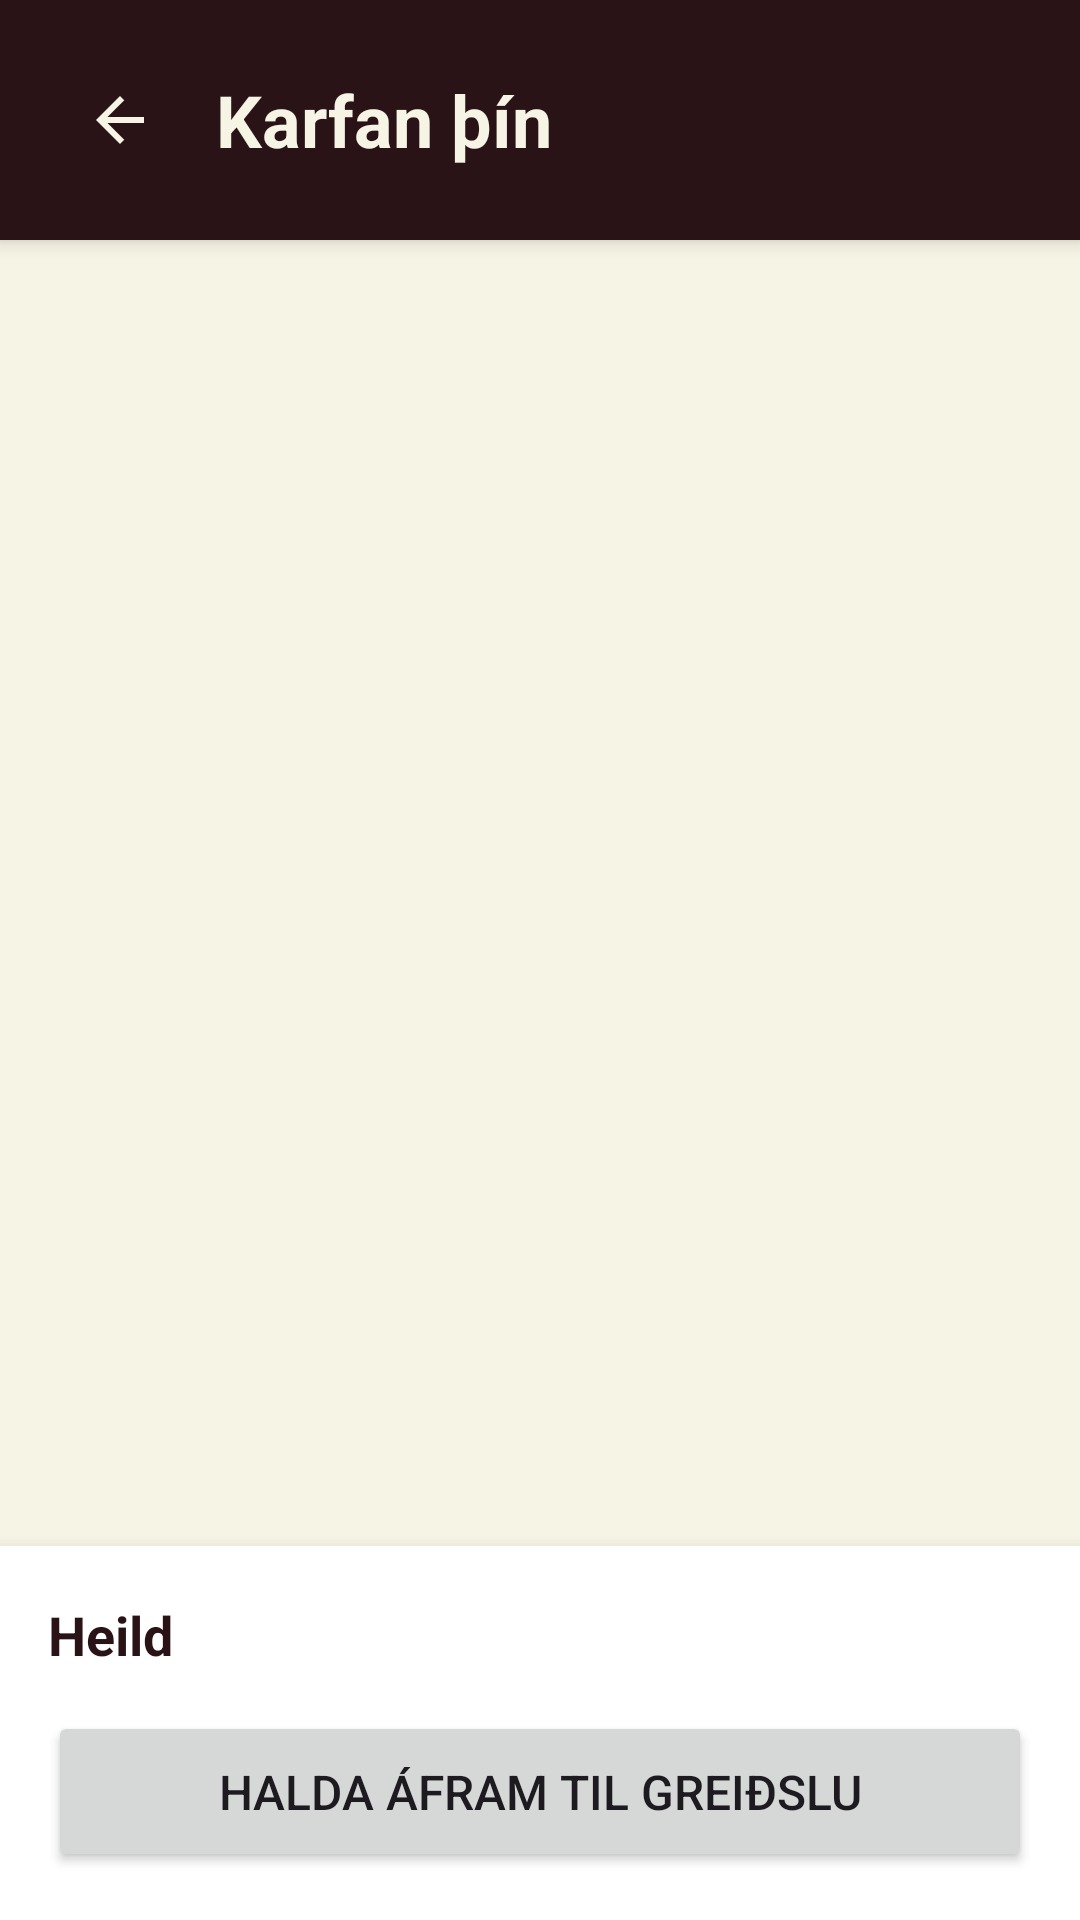

Locate icon controls on the screen. Image size 1080px×1920px, boxes as (x1, y1, x2, y2).
Til baka: (96, 96, 144, 144)
